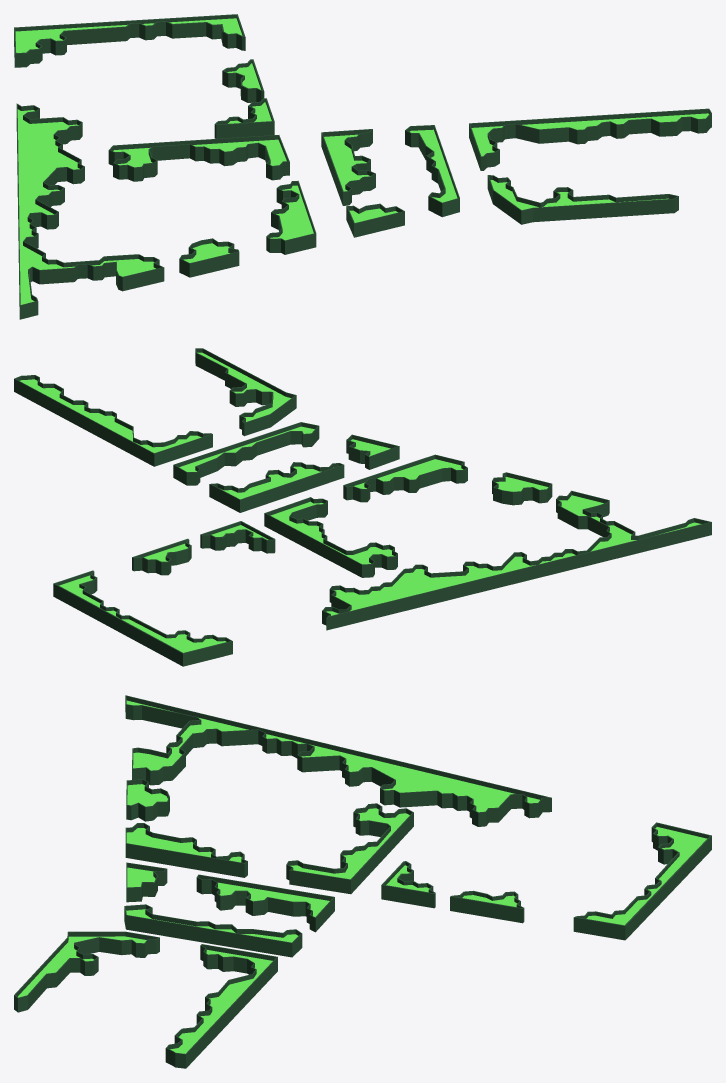
File: MSH_Jardineras_Finales_Hexagonales.FBX
3 views of the same model, one above another, from view 1: azimuth 30°, elevation 25°; view 2: azimuth 150°, elevation 25°; view 3: azimuth 270°, elevation 25° (orthographic). The views are drawn at different scales.
Parts seen in each view (by area): view 1: MSH_Jardineras_Finales_Hexagonales, MSH_Jardineras_Finales_Hexagonales.001, MSH_Jardineras_Finales_Hexagonales.004, MSH_Jardineras_Finales_Hexagonales.003, MSH_Jardineras_Finales_Hexagonales.002; view 2: MSH_Jardineras_Finales_Hexagonales, MSH_Jardineras_Finales_Hexagonales.004, MSH_Jardineras_Finales_Hexagonales.001, MSH_Jardineras_Finales_Hexagonales.002, MSH_Jardineras_Finales_Hexagonales.003; view 3: MSH_Jardineras_Finales_Hexagonales, MSH_Jardineras_Finales_Hexagonales.004, MSH_Jardineras_Finales_Hexagonales.001, MSH_Jardineras_Finales_Hexagonales.002, MSH_Jardineras_Finales_Hexagonales.003.
Part boxes in pixels (box(x1,y1,x2,y2)): MSH_Jardineras_Finales_Hexagonales: box(16, 103, 164, 319); MSH_Jardineras_Finales_Hexagonales.001: box(469, 108, 711, 224); MSH_Jardineras_Finales_Hexagonales.004: box(108, 135, 316, 277); MSH_Jardineras_Finales_Hexagonales.003: box(14, 14, 274, 138); MSH_Jardineras_Finales_Hexagonales.002: box(321, 125, 459, 237); MSH_Jardineras_Finales_Hexagonales: box(322, 490, 711, 630); MSH_Jardineras_Finales_Hexagonales.004: box(264, 454, 552, 577); MSH_Jardineras_Finales_Hexagonales.001: box(14, 348, 296, 466); MSH_Jardineras_Finales_Hexagonales.002: box(173, 422, 399, 512); MSH_Jardineras_Finales_Hexagonales.003: box(53, 521, 275, 666); MSH_Jardineras_Finales_Hexagonales: box(125, 695, 551, 826); MSH_Jardineras_Finales_Hexagonales.004: box(125, 779, 413, 894); MSH_Jardineras_Finales_Hexagonales.001: box(14, 931, 277, 1068); MSH_Jardineras_Finales_Hexagonales.002: box(124, 862, 334, 957); MSH_Jardineras_Finales_Hexagonales.003: box(381, 822, 711, 940).
Bounding box in the file's own units: 4635 × 86.4 × 3806.
